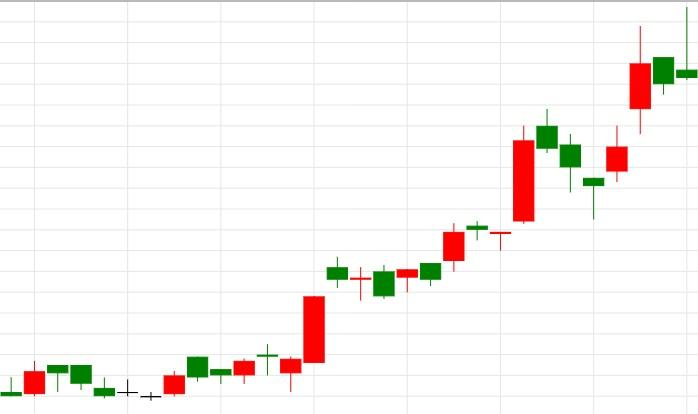morning_star_rise: (536, 108, 628, 219)
